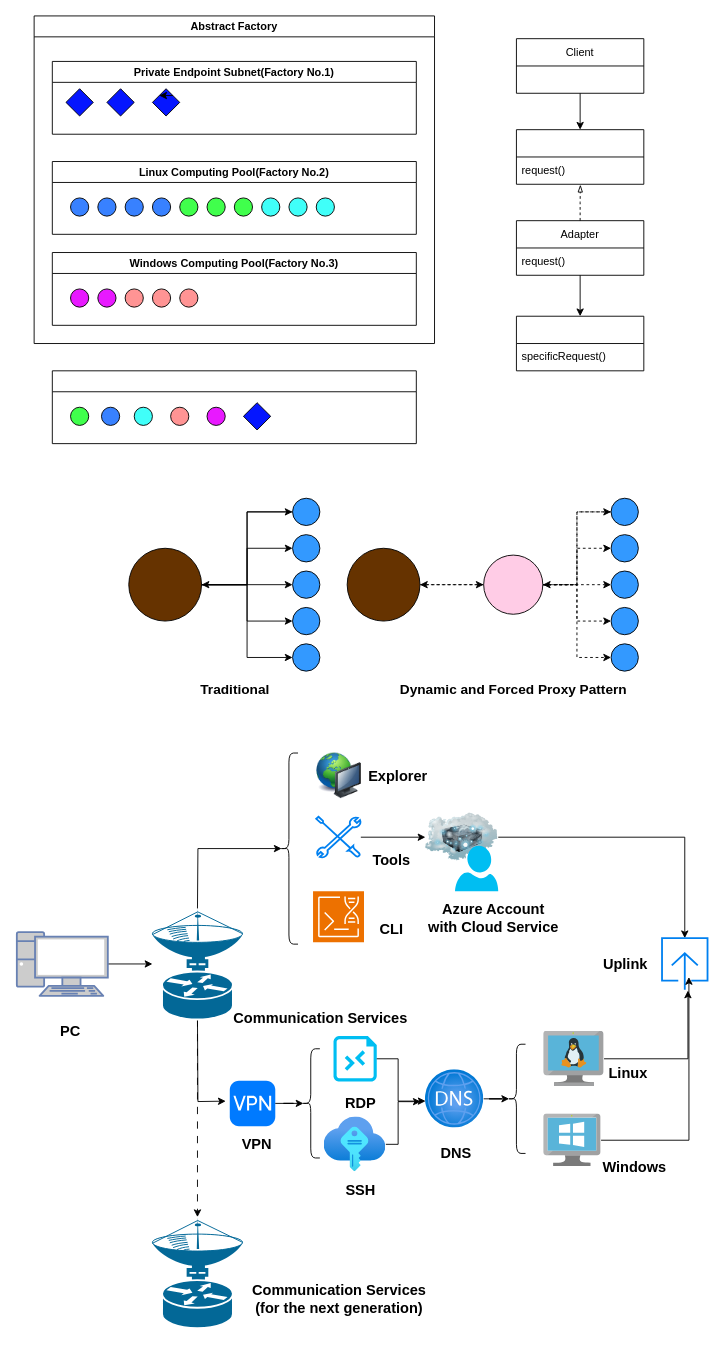
Some shapes in this 723 by 1345 pixel diagram are drawn without their labels. Each missing label, with the box of its shape:
<<interface>>Target: (516, 129, 644, 184)
A Hashmap(belongs to Flyweight Factory): (51, 370, 416, 444)
Adaptee: (516, 315, 644, 371)
